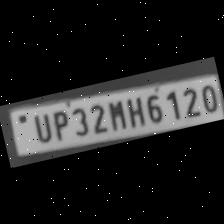0: (195, 78, 221, 114)
1: (159, 86, 183, 122)
2: (175, 82, 202, 119), (83, 99, 108, 135)
3: (64, 102, 90, 138)
6: (140, 89, 166, 126)
H: (120, 92, 146, 128)
M: (102, 96, 128, 132)
P: (46, 106, 71, 140)
U: (27, 110, 52, 144)
